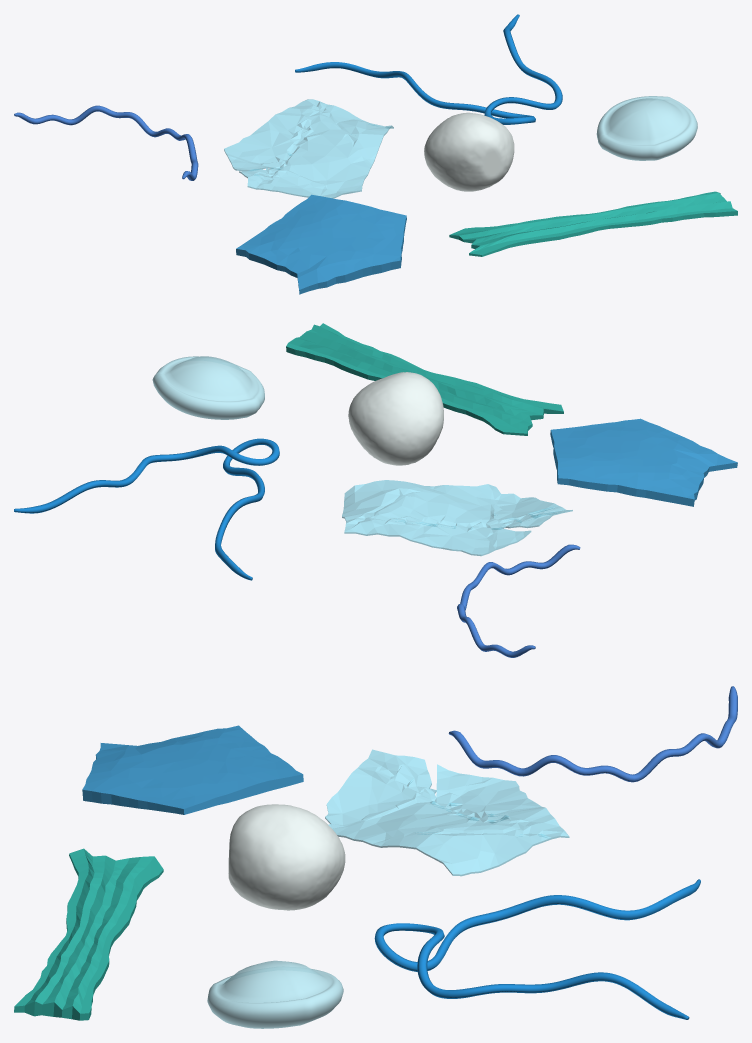
Rendered from semua.glb.
3 views of the same model, one above another, from view 1: azimuth 30°, elevation 25°; view 2: azimuth 150°, elevation 25°; view 3: azimuth 270°, elevation 25° (orthographic). The views are drawn at different scales.
Visible parts, largest first — view 1: film_5, fragmen_1, fragmen_2, pelet_6, pelet_7, serat_3, serat_4; view 2: film_5, fragmen_1, fragmen_2, pelet_6, pelet_7, serat_3, serat_4; view 3: film_5, fragmen_1, fragmen_2, pelet_6, serat_3, pelet_7, serat_4.
Part boxes in pixels (<box>): film_5: <box>224,99,393,198</box>; fragmen_1: <box>236,194,406,294</box>; fragmen_2: <box>449,191,737,256</box>; pelet_6: <box>424,112,514,191</box>; pelet_7: <box>596,96,697,160</box>; serat_3: <box>295,14,562,124</box>; serat_4: <box>14,105,198,180</box>; film_5: <box>342,480,572,556</box>; fragmen_1: <box>550,418,737,506</box>; fragmen_2: <box>286,323,563,435</box>; pelet_6: <box>348,372,443,465</box>; pelet_7: <box>152,356,264,419</box>; serat_3: <box>14,438,279,580</box>; serat_4: <box>457,544,580,657</box>; film_5: <box>325,749,569,876</box>; fragmen_1: <box>82,725,303,814</box>; fragmen_2: <box>14,848,163,1020</box>; pelet_6: <box>228,804,345,910</box>; serat_3: <box>374,879,700,1019</box>; pelet_7: <box>207,960,343,1028</box>; serat_4: <box>448,686,737,782</box>.
Size of the model in its own units: 0.3804 by 0.0515 by 0.3492.
